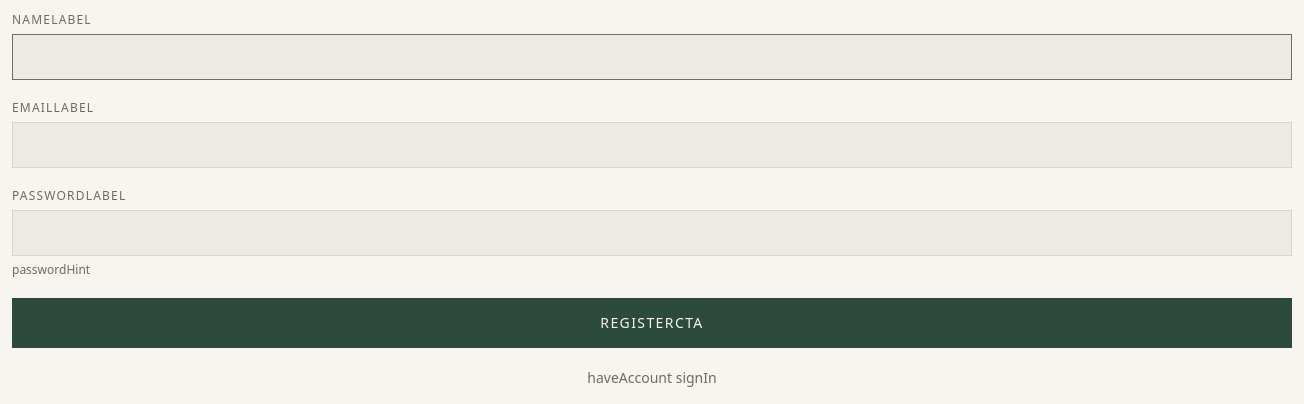
Test: AuthForm — register mode › shows password too short error
The image size is (1304, 404).
Type "Alice" into the field labelled "nameLabel" at (652, 57), box [12,34,1292,80]
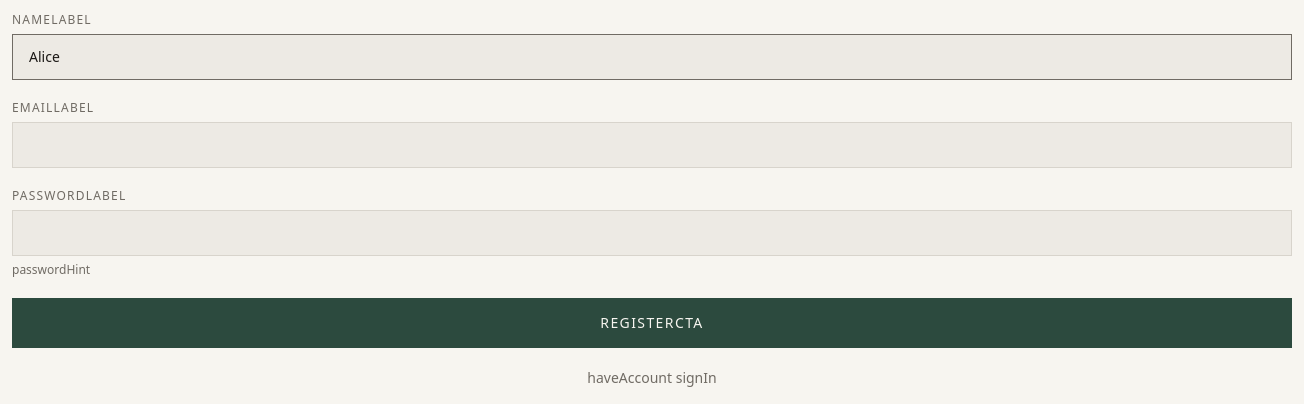
Type "alice@example.com" into the field labelled "emailLabel" at (652, 145), box [12,122,1292,168]
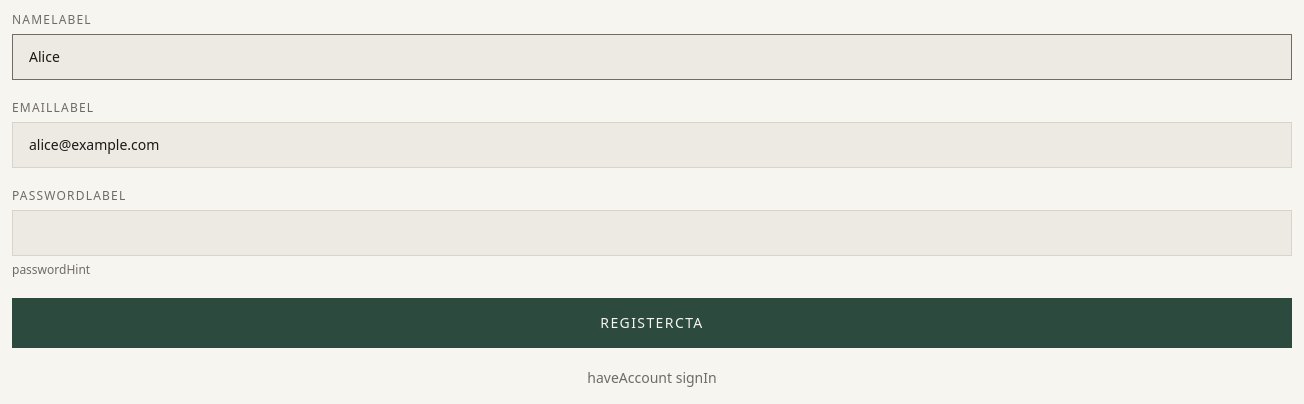
Type "short" into the password field named "password" at (652, 233), box [12,210,1292,256]
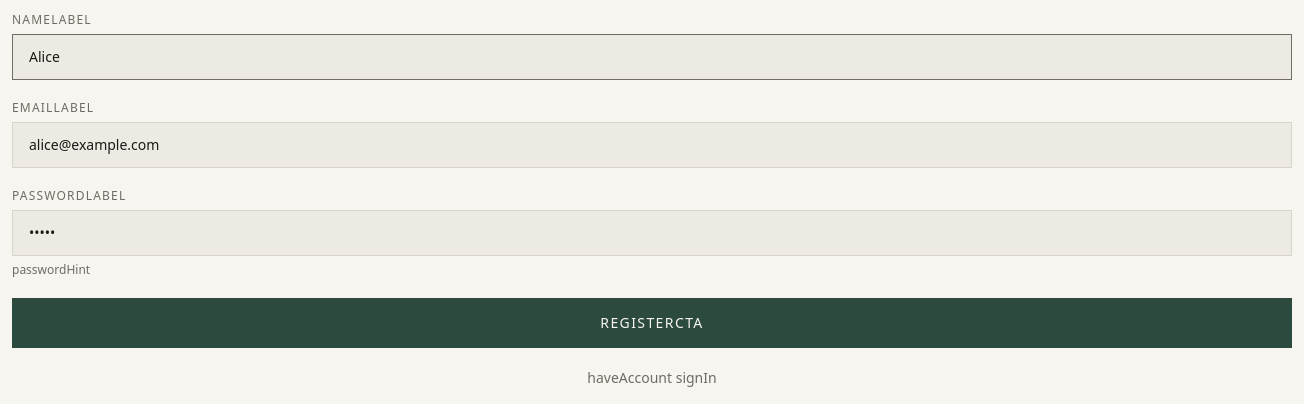
Click the button "registerCta" at (652, 323), box [12,298,1292,348]
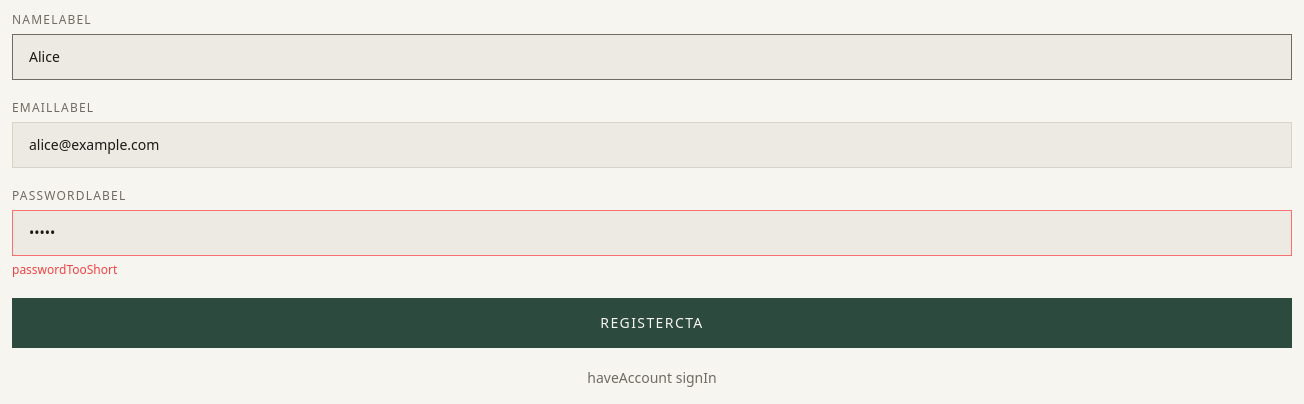
Check: the text "passwordTooShort" is shown, box [12,261,117,278]
